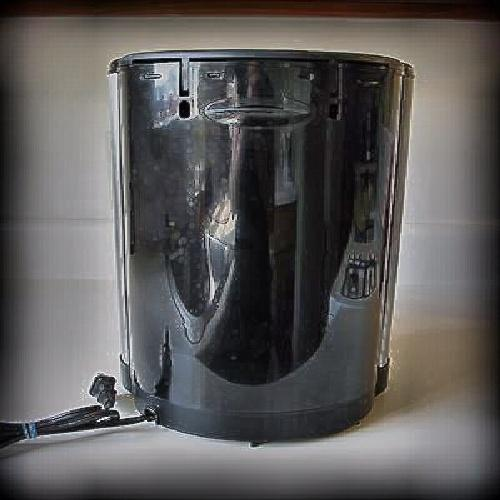coffee_maker: (102, 51, 411, 423)
